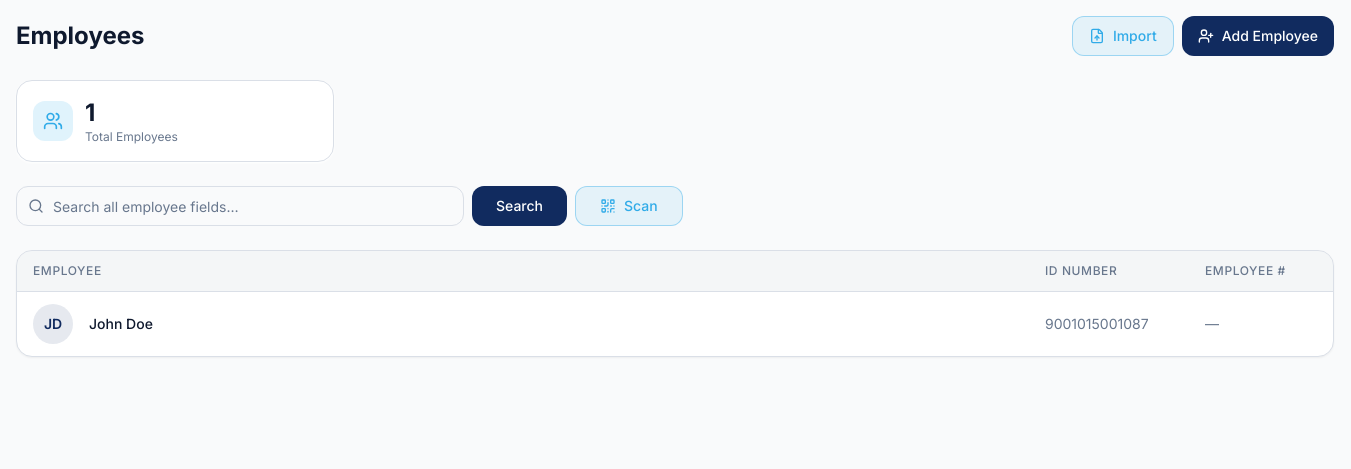
Test: EmployeeListPage search › uses general empty-state text for unmatched searches
The width and height of the screenshot is (1351, 469).
Type "missing" into the field. click: (240, 206)
box: [16, 186, 464, 226]
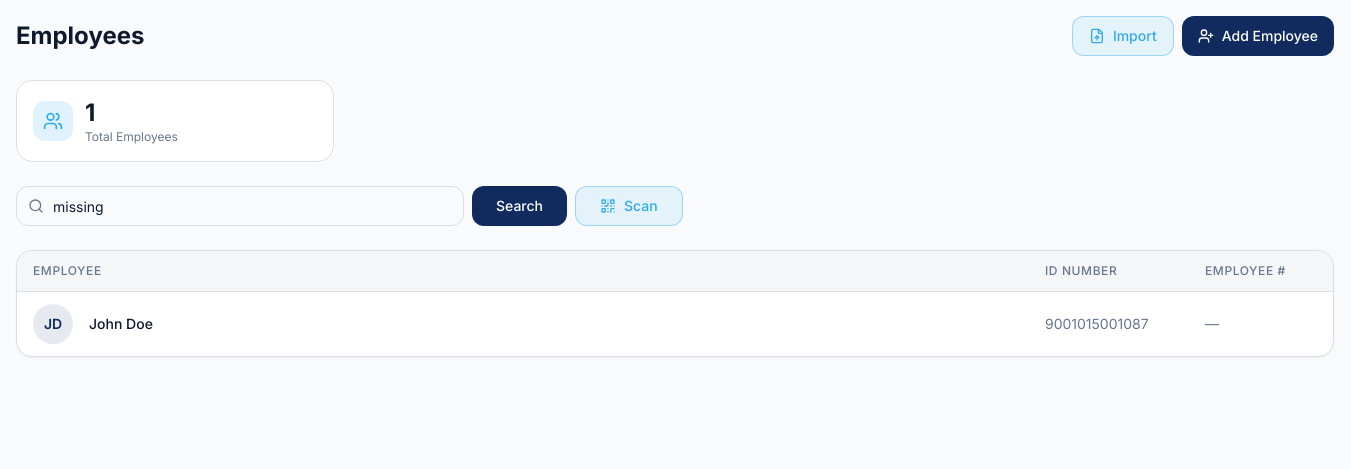
Click the button "Search". click: (520, 206)
box: [472, 186, 567, 226]
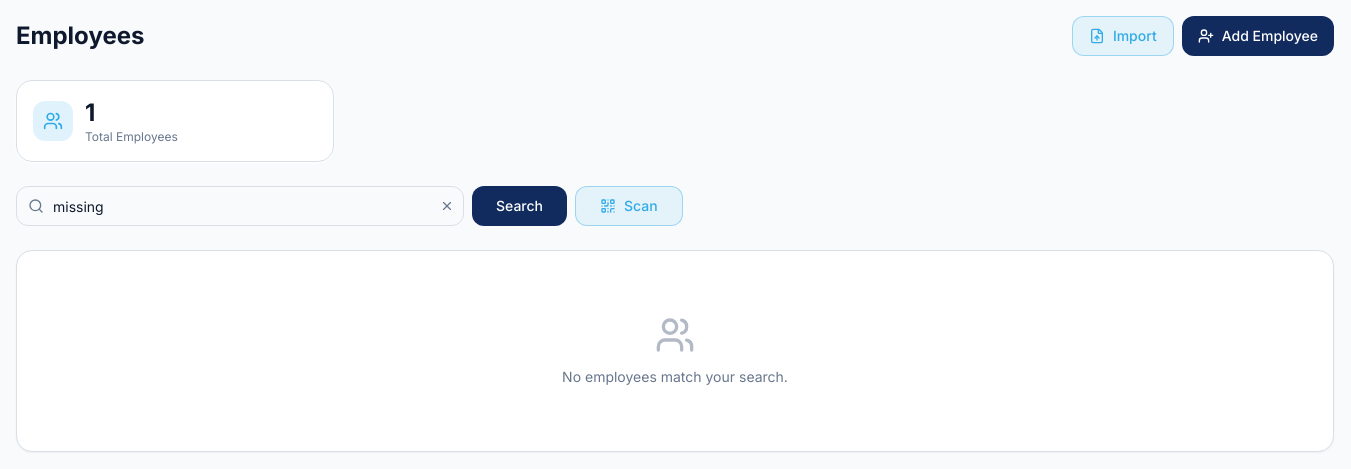
Result: the text "No employees match your search." is shown at [562, 367, 788, 387]
